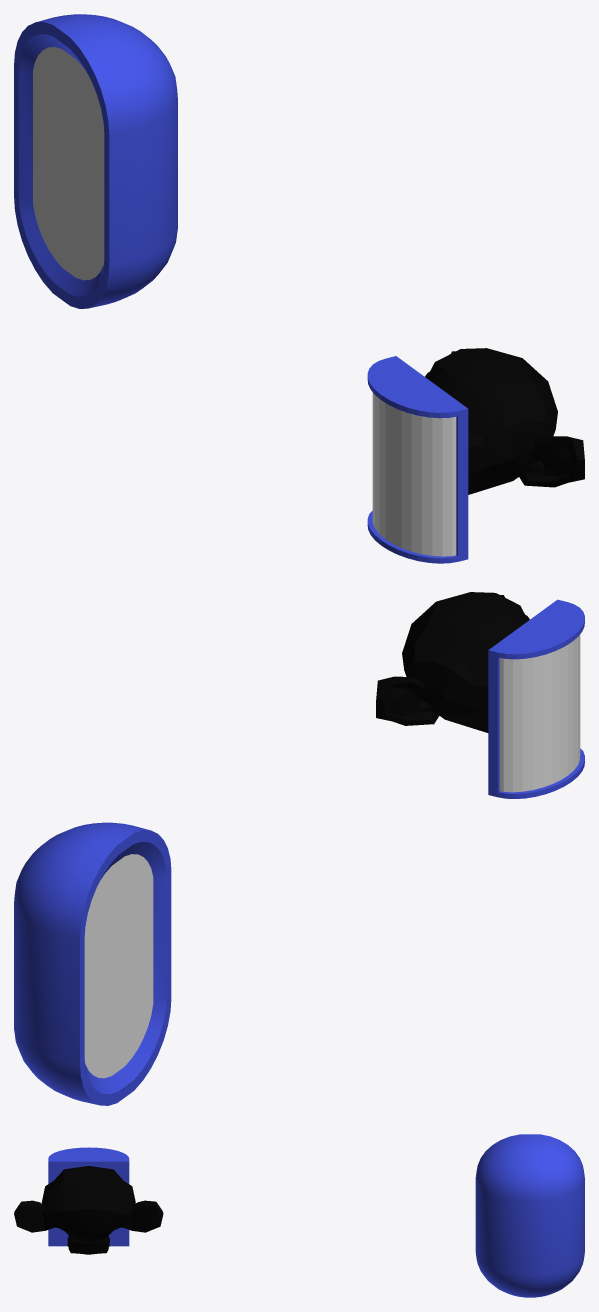
Rendered from PlayerHeadModel2.fbx.
3 renders of one model, top to bottom at view 1: azimuth 30°, elevation 25°; view 2: azimuth 150°, elevation 25°; view 3: azimuth 270°, elevation 25°, orthographic. The views are drawn at different scales.
Parts seen in each view (by area): view 1: Cylinder, Suzanne, Cylinder.001; view 2: Cylinder, Suzanne, Cylinder.001; view 3: Cylinder, Suzanne.
Part boxes in pixels (left/top/right/bottom): Cylinder: left=14, top=14, right=177, bottom=308; Suzanne: left=367, top=348, right=584, bottom=563; Cylinder.001: left=33, top=71, right=104, bottom=254; Cylinder: left=14, top=822, right=171, bottom=1105; Suzanne: left=376, top=592, right=584, bottom=798; Cylinder.001: left=84, top=877, right=153, bottom=1053; Cylinder: left=475, top=1134, right=584, bottom=1297; Suzanne: left=14, top=1147, right=163, bottom=1254.
Bounding box in the file's own units: 20.93 × 30.82 × 104.
